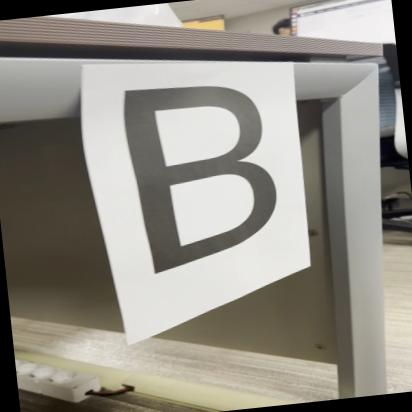seat: (113, 60, 302, 283)
